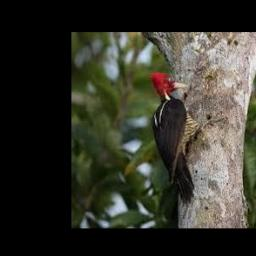Woodpecker: (150, 71, 225, 204)
